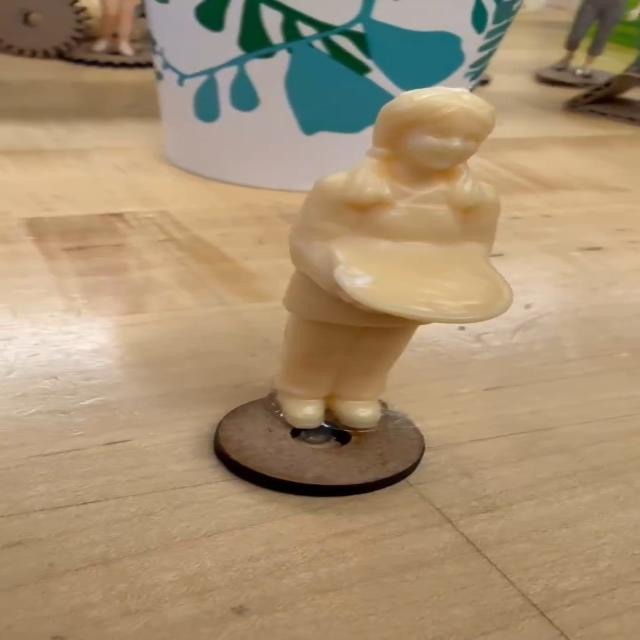Unauthorized: (276, 83, 518, 432)
